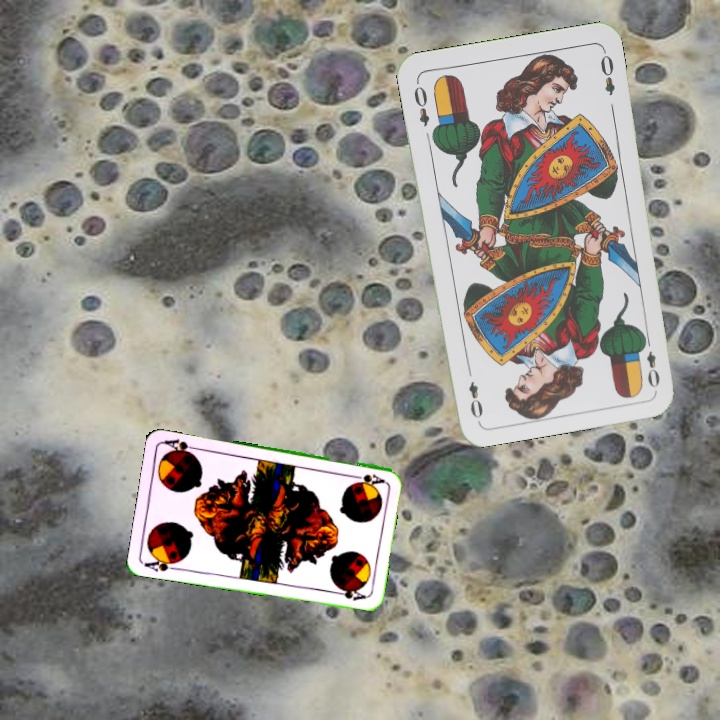EO: (638, 332, 663, 391), (409, 82, 432, 129)
SA: (141, 553, 183, 574), (346, 470, 387, 487)
